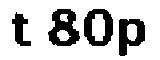0: (82, 6, 116, 51)
8: (46, 7, 81, 52)
p: (117, 15, 150, 60)
t: (9, 10, 36, 51)
